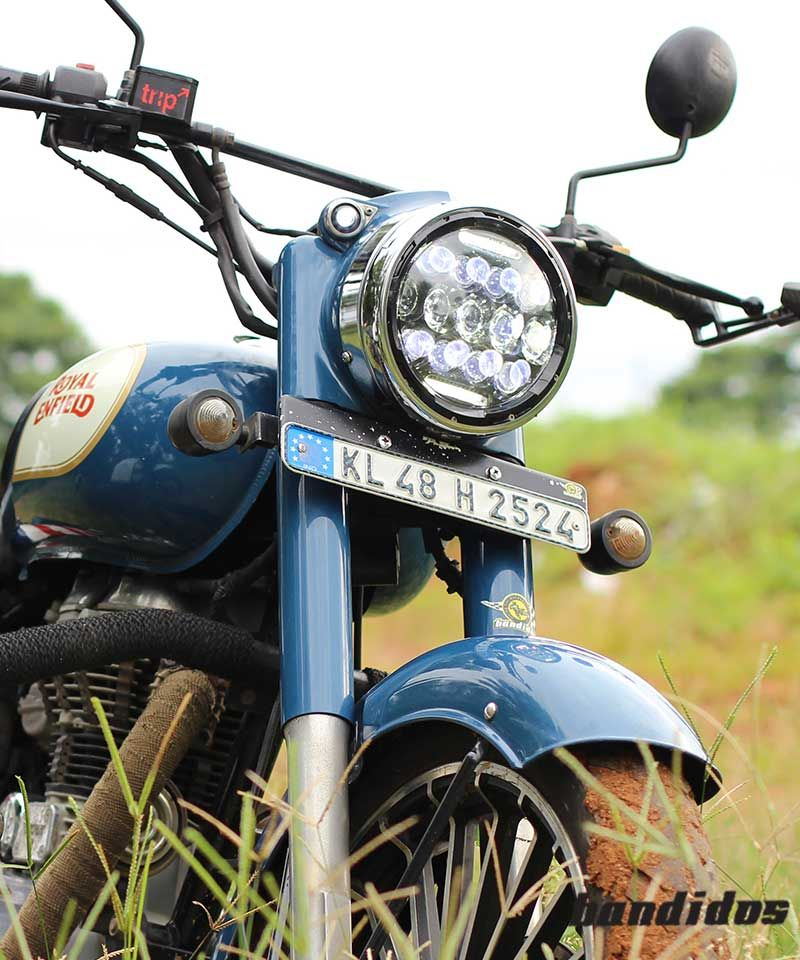numberplate: (279, 421, 594, 558)
